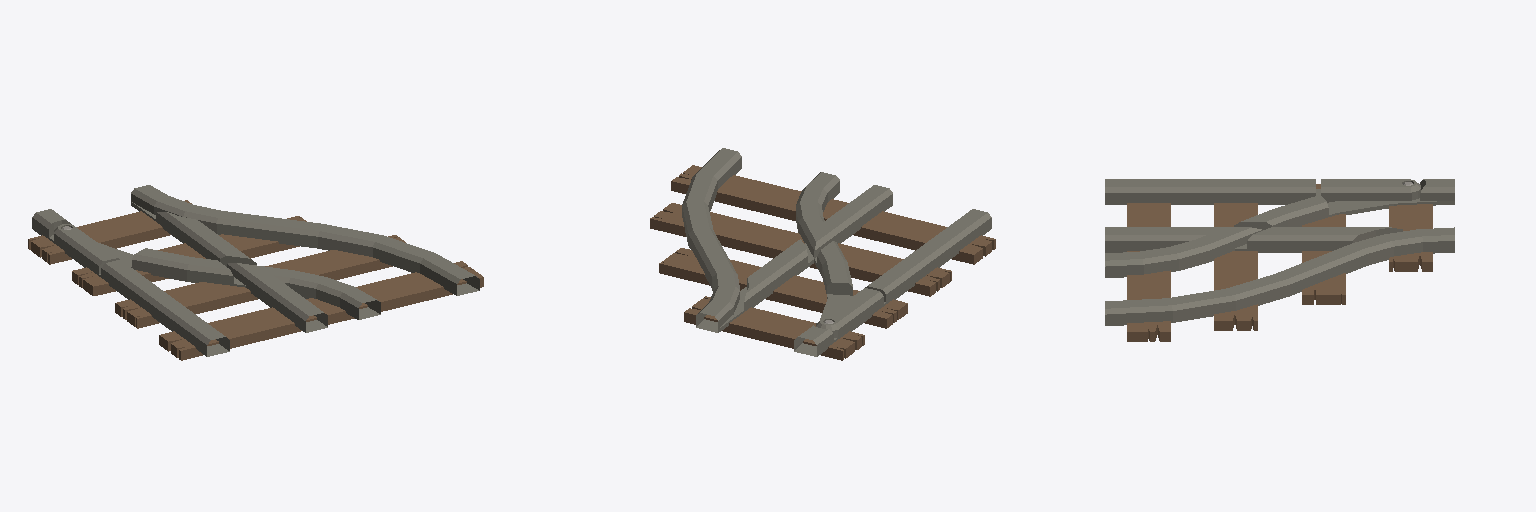
Rendered from Cave_Prop_Railway_Switch.obj.
3 views of the same model, side by side, from view 1: azimuth 30°, elevation 25°; view 2: azimuth 150°, elevation 25°; view 3: azimuth 270°, elevation 25° (orthographic).
Parts seen in each view (by area): view 1: object7, object4, object6, object2, object5, object3; view 2: object7, object4, object6, object5, object2, object3; view 3: object7, object6, object4, object3, object2, object5.
Boxes of the visible parts, <box> form: object7: <box>32,185,479,356</box>; object4: <box>159,261,483,360</box>; object6: <box>115,235,405,328</box>; object2: <box>28,200,191,264</box>; object5: <box>72,216,306,295</box>; object3: <box>54,224,119,273</box>; object7: <box>682,148,991,356</box>; object4: <box>671,165,995,264</box>; object6: <box>650,203,951,296</box>; object5: <box>659,248,907,328</box>; object2: <box>684,296,864,360</box>; object3: <box>816,288,883,337</box>; object7: <box>1105,179,1454,325</box>; object6: <box>1214,203,1257,330</box>; object4: <box>1127,203,1170,341</box>; object3: <box>1321,179,1420,200</box>; object2: <box>1389,204,1432,271</box>; object5: <box>1302,184,1345,304</box>.
Bounding box in the file's own units: 2 × 0.15 × 2.